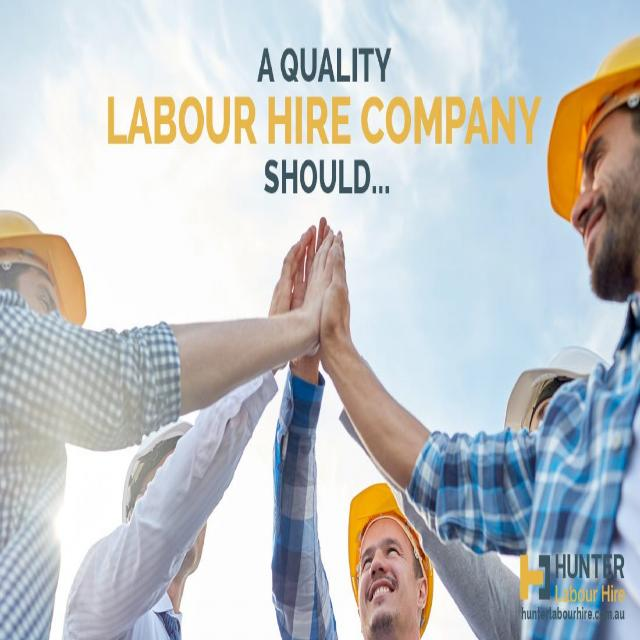Safety-Helmet: (493, 308, 623, 477), (541, 22, 640, 230), (338, 464, 439, 625), (115, 397, 219, 543), (0, 186, 100, 324)
